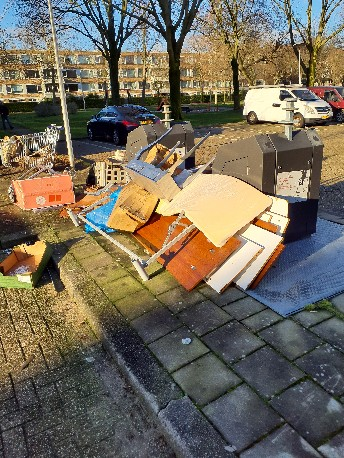Container: (234, 132, 337, 222), (132, 114, 194, 154)
Rest: (95, 233, 262, 316), (169, 173, 268, 273), (86, 156, 149, 229), (10, 163, 84, 219), (121, 148, 191, 195)
